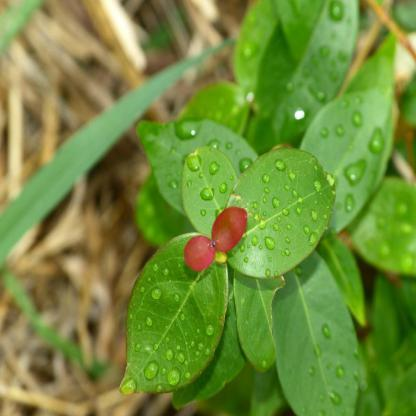Cherry leaf: (114, 233, 231, 400), (266, 236, 368, 416), (222, 142, 342, 272)
